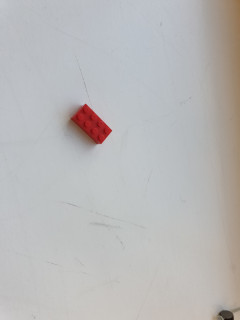2x4 red: (70, 101, 114, 149)
